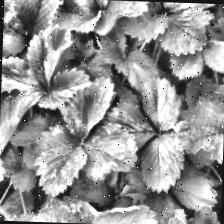Powdery Mildew Leaf: (30, 123, 89, 198), (170, 91, 224, 163), (25, 22, 74, 92), (81, 124, 139, 182), (98, 100, 160, 150), (17, 192, 99, 224), (90, 202, 157, 224)
